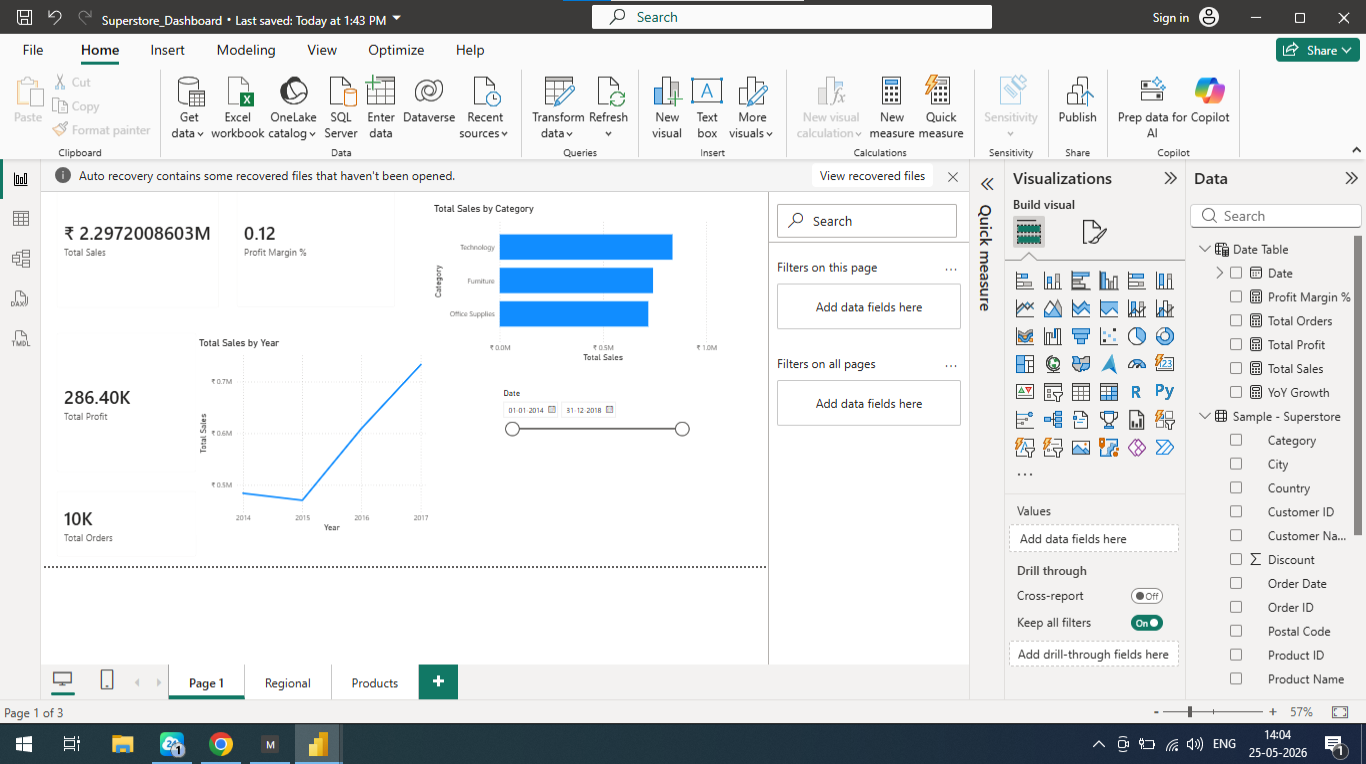

This screenshot's page, from the dashboard's own definition file:
{"tool":"powerbi","page":{"name":"Page 1","canvas":[1280,720],"ordinal":0},"visuals":[{"type":"cardVisual","fields":{"Data":["Date Table.Total Sales"]},"box":[10.1,0,320.8,280.5],"z":0},{"type":"cardVisual","fields":{"Data":["Date Table.Total Profit"]},"box":[10,290,280,280],"z":1000},{"type":"cardVisual","fields":{"Data":["Date Table.Total Orders"]},"box":[10,570,280,150],"z":2000},{"type":"cardVisual","fields":{"Data":["Date Table.Profit Margin %"]},"box":[327.5,0,313.4,279.9],"z":3000},{"type":"lineChart","fields":{"Category":["Date Table.Date.Variation.Date Hierarchy.Year","Date Table.Date.Variation.Date Hierarchy.Quarter","Date Table.Date.Variation.Date Hierarchy.Month","Date Table.Date.Variation.Date Hierarchy.Day"],"Y":["Date Table.Total Sales"]},"box":[272.9,315.2,413.8,350.4],"z":4000},{"type":"slicer","fields":{"Values":["Date Table.Date"]},"box":[801.1,401.4,348.6,264.1],"z":5000},{"type":"barChart","fields":{"Category":["Sample - Superstore.Category"],"Y":["Date Table.Total Sales"]},"box":[686.7,77.5,508.8,287],"z":5001}]}

Visuals, with their boxes on the page's 1280x720 design canvas (x1, y1, x2, y2). These are canvas units, not pixel positions in the 1366x764 screenshot, which may show the page scaled, cropped or inside an application window:
cardVisual - Date Table.Total Sales: BBox(10, 0, 331, 280)
cardVisual - Date Table.Total Profit: BBox(10, 290, 290, 570)
cardVisual - Date Table.Total Orders: BBox(10, 570, 290, 720)
cardVisual - Date Table.Profit Margin %: BBox(328, 0, 641, 280)
lineChart - Date Table.Date.Variation.Date Hierarchy.Year x Date Table.Date.Variation.Date Hierarchy.Quarter: BBox(273, 315, 687, 666)
slicer - Date Table.Date: BBox(801, 401, 1150, 666)
barChart - Sample - Superstore.Category x Date Table.Total Sales: BBox(687, 78, 1196, 364)
